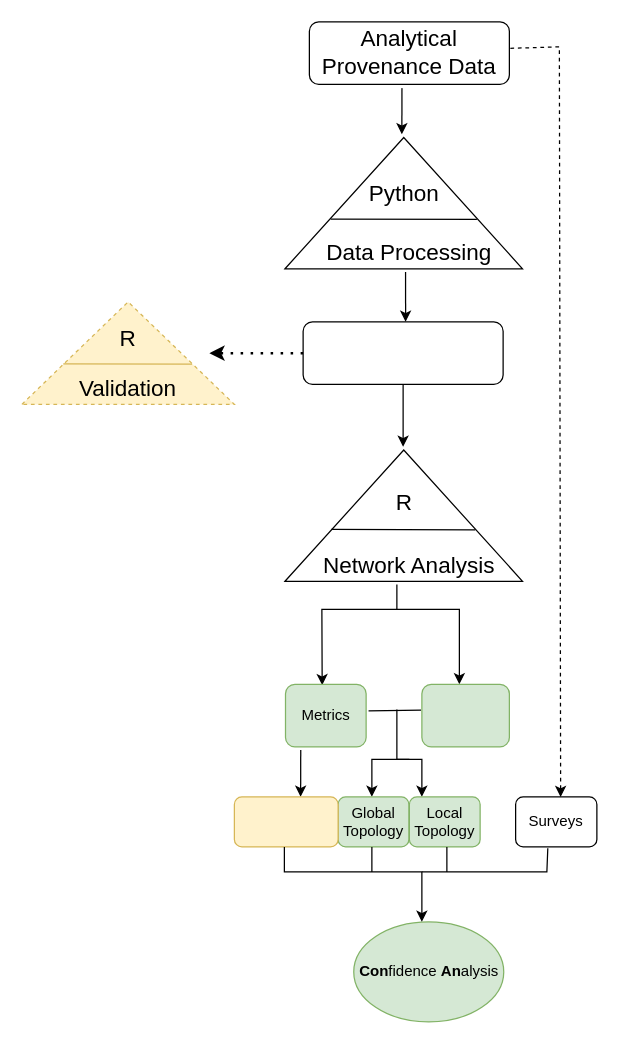
The diagram is 619 pixels wide and 1044 high, and some of its shapes have lost their labels. The shapes that lost their labels are listed below. From the top down, each one's centre as x and y in pixels, then its label:
pixel 402 352: Processed Data
pixel 465 715: Network Graphs
pixel 285 821: Global Characteristics
